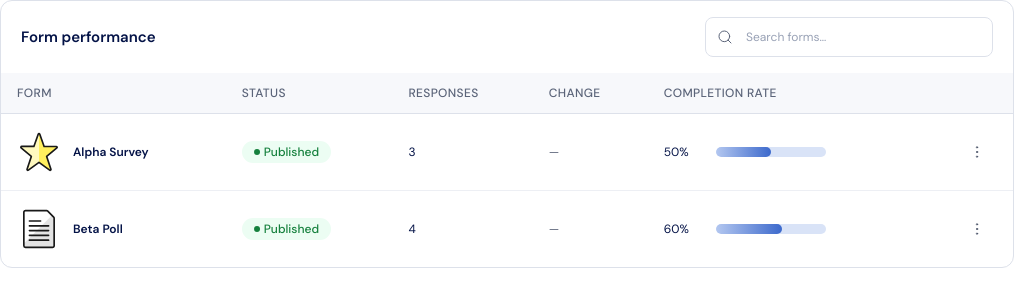
FormsSummaryTable › filters the rows by the search box
The width and height of the screenshot is (1024, 285).
In the field labelled "Search forms": (849, 37) [705,17,993,57], type "beta"
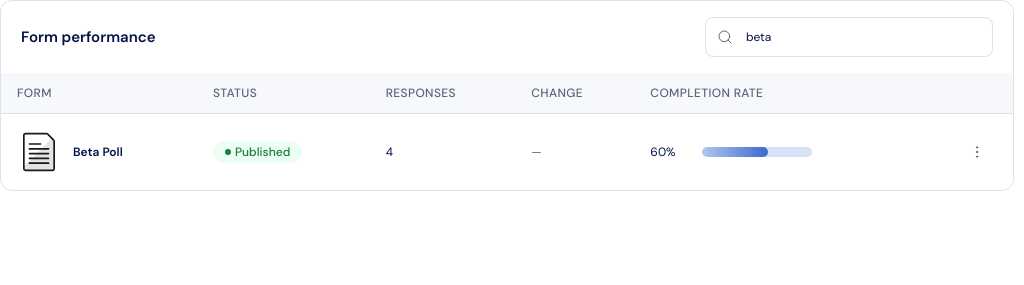
Expected: the link "Beta Poll" is shown, [73,143,123,161]
Result: the link "Alpha Survey" is gone
